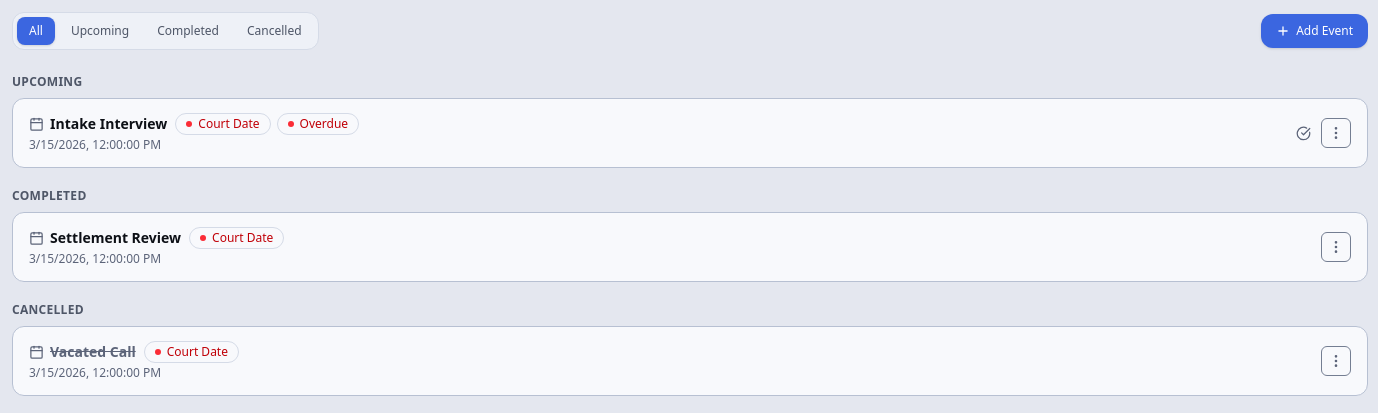
Test: re-reading after a change › re-reads only the sections on screen, never the ones the viewer filtered out
Expected: the text "Intake Interview" is shown, [50,114,167,134]
Click the button "Upcoming": x=100, y=31 [59,17,141,45]
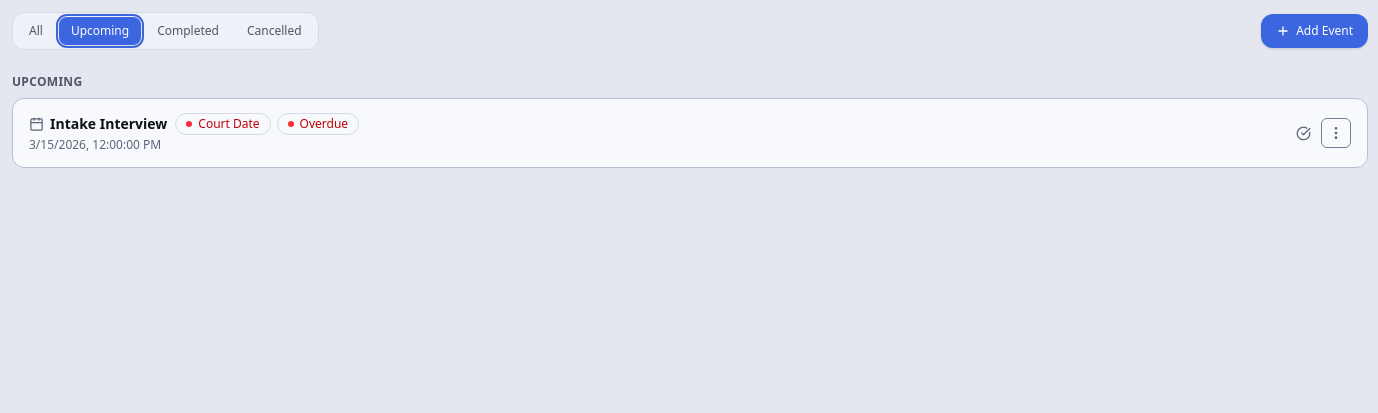
Now the text "Settlement Review" is gone
Click the button named "Mark as completed": x=1304, y=133 [1290,120,1317,146]
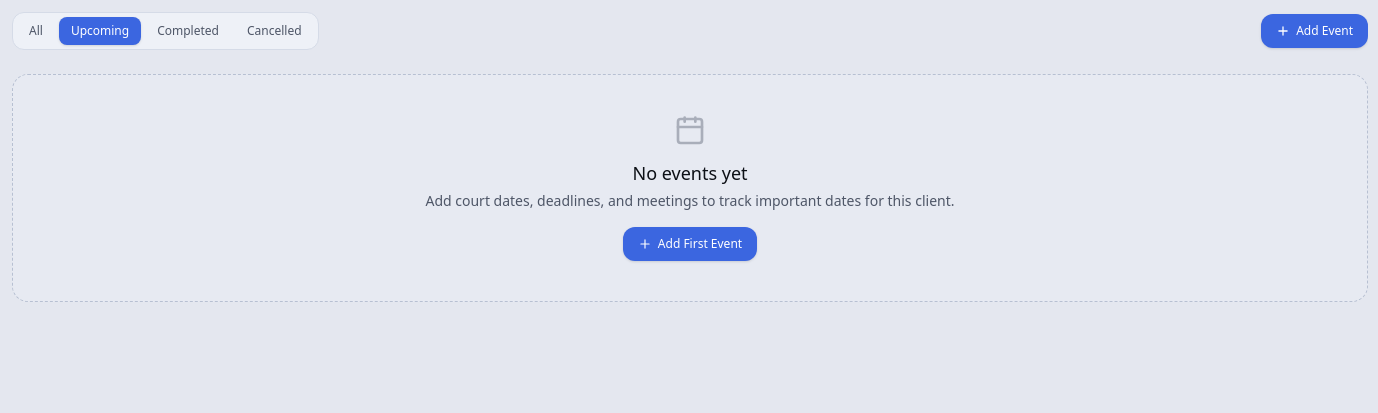
Now the text "Intake Interview" is gone
